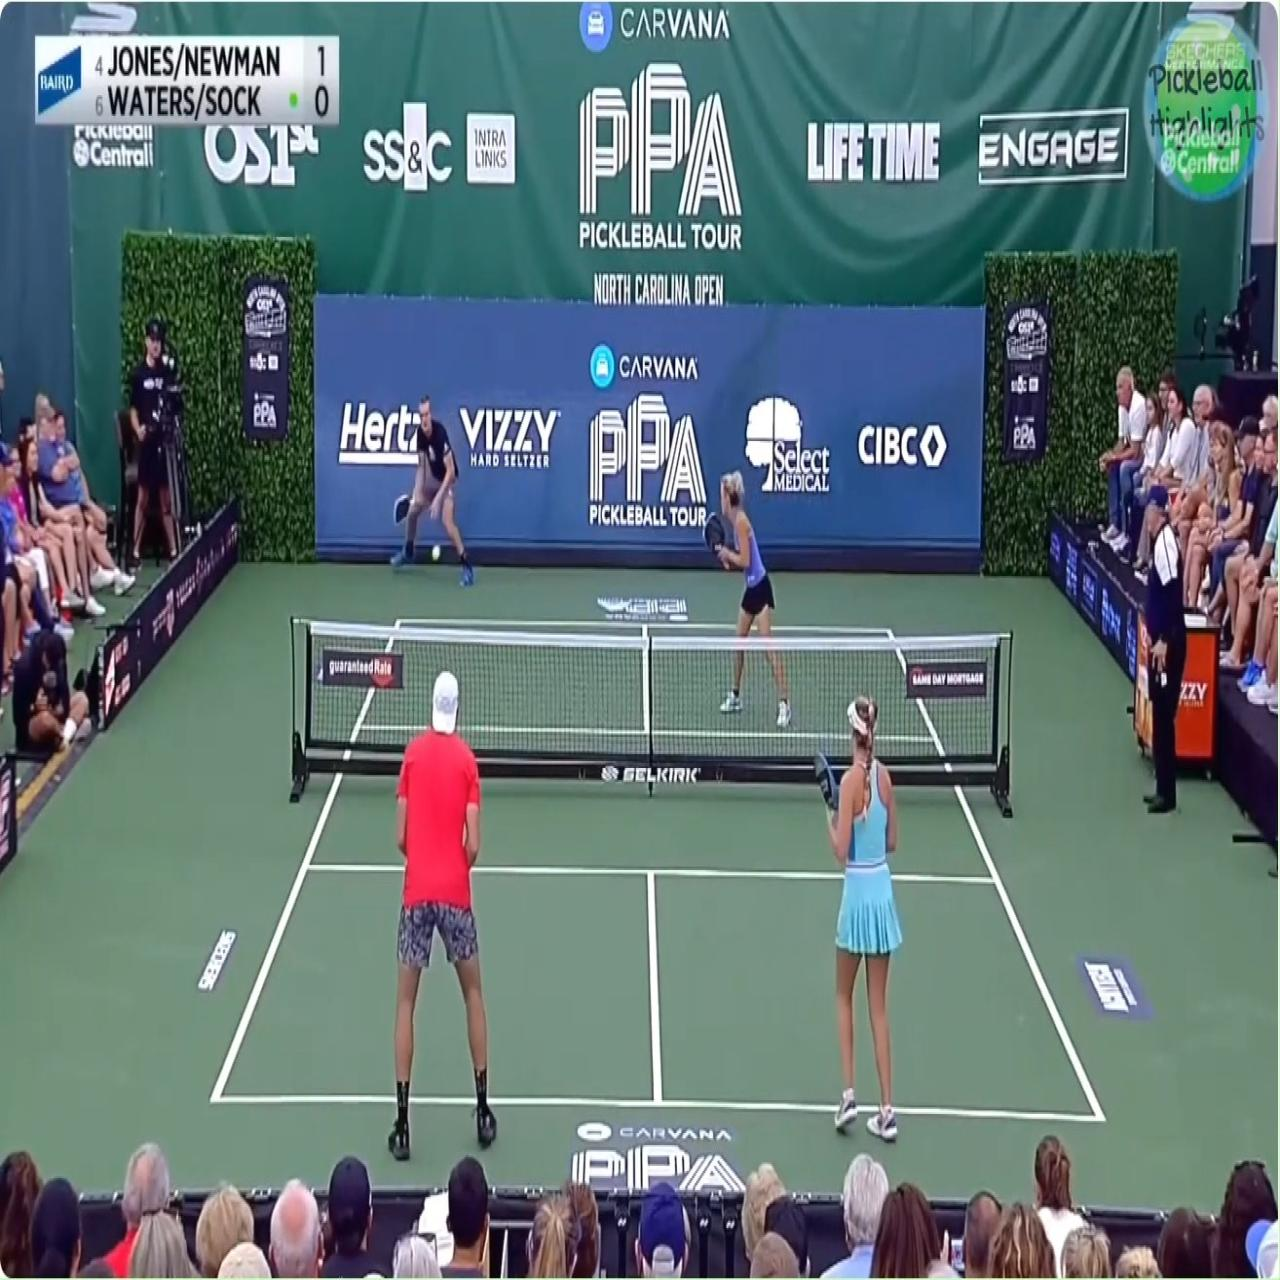pickleball: (430, 543, 441, 563)
